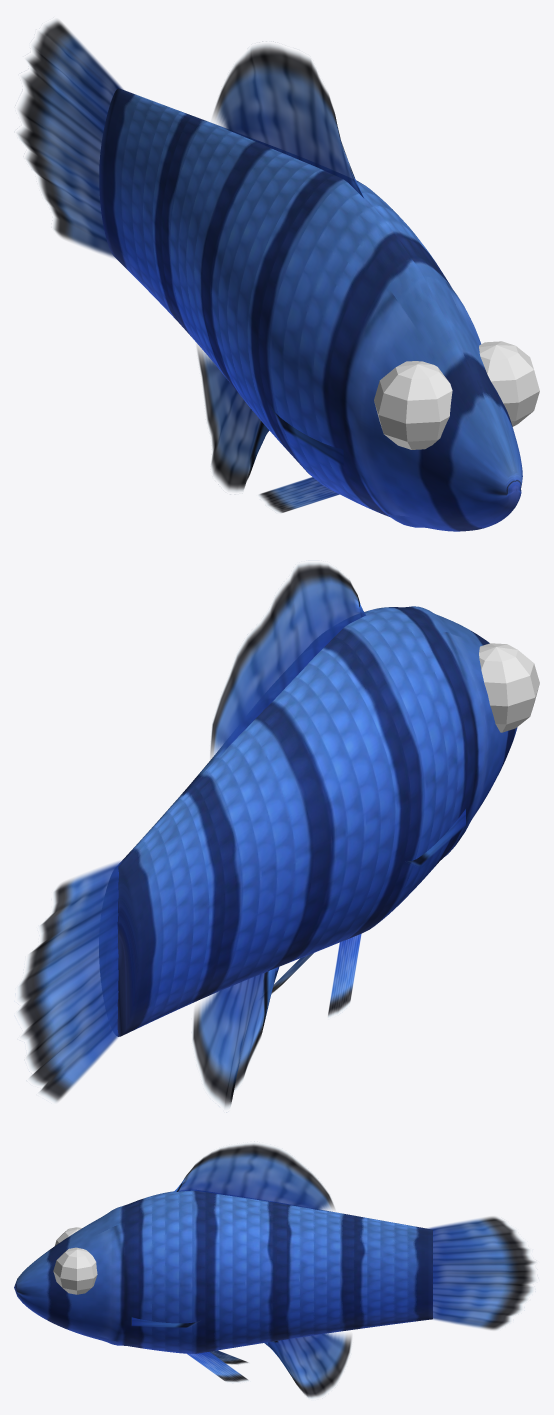
Rendered from cichlid-0.glb.
The picture shows the model from 3 angles, top to bottom: view 1: azimuth 30°, elevation 25°; view 2: azimuth 150°, elevation 25°; view 3: azimuth 270°, elevation 25°; orthographic projection. The views are drawn at different scales.
Parts seen in each view (by area): view 1: Body, Fins, EyeL, EyeR, PectL; view 2: Body, Fins, EyeL; view 3: Body, Fins, EyeR, PectR.
Boxes of the visible parts, x1,y1,x2,y2 form: Body: [99, 88, 522, 531]; Fins: [18, 20, 364, 512]; EyeL: [374, 361, 452, 449]; EyeR: [479, 341, 539, 426]; PectL: [273, 410, 343, 465]; Body: [99, 606, 517, 1036]; Fins: [18, 563, 366, 1112]; EyeL: [479, 643, 539, 732]; Body: [14, 1190, 432, 1353]; Fins: [173, 1143, 534, 1398]; EyeR: [53, 1247, 97, 1294]; PectR: [131, 1317, 196, 1327].
Size of the model in its own units: 0.1315 by 0.3937 by 0.7252.
2 materials, 2 textured.
